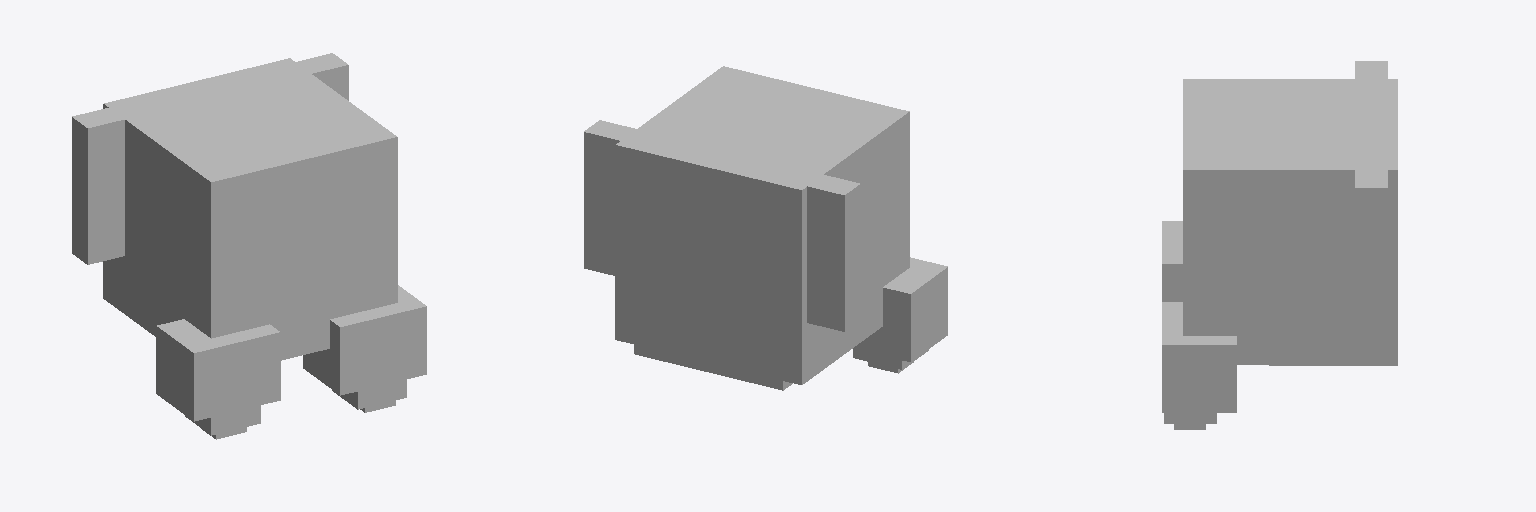
File: frog.obj
3 views of the same model, side by side, from view 1: azimuth 30°, elevation 25°; view 2: azimuth 150°, elevation 25°; view 3: azimuth 270°, elevation 25° (orthographic).
Parts seen in each view (by area): view 1: obj_0; view 2: obj_0; view 3: obj_0.
Boxes of the visible parts, x1=… form: obj_0: x1=72, y1=53, x2=426, y2=439; obj_0: x1=584, y1=66, x2=947, y2=390; obj_0: x1=1162, y1=61, x2=1397, y2=429.
Bounding box in the file's own units: 28 × 27 × 22.